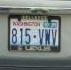1: (19, 27, 23, 44)
5: (24, 28, 31, 45)
8: (11, 27, 18, 44)
N: (45, 29, 51, 46)
V: (51, 28, 58, 46), (38, 28, 44, 46)
